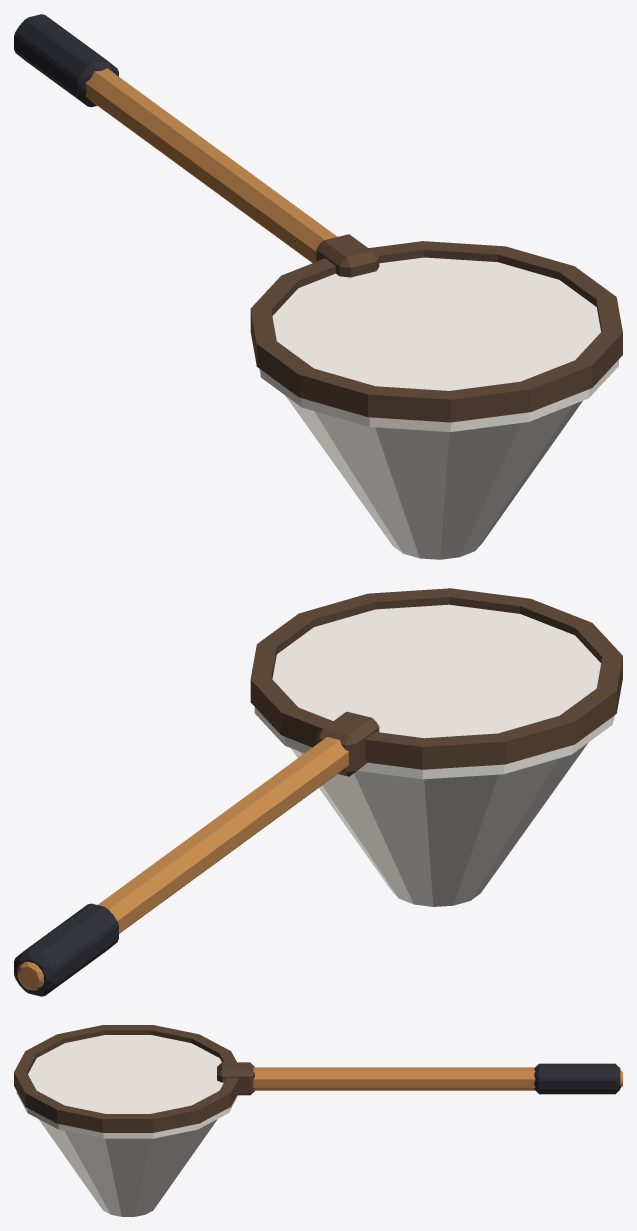
File: CatCafe_Item_Net_L1.glb
3 views of the same model, one above another, from view 1: azimuth 30°, elevation 25°; view 2: azimuth 150°, elevation 25°; view 3: azimuth 270°, elevation 25° (orthographic). The views are drawn at different scales.
Parts seen in each view (by area): view 1: CatCafe_Item_Net_L1_Bag, CatCafe_Item_Net_L1_Handle; view 2: CatCafe_Item_Net_L1_Bag, CatCafe_Item_Net_L1_Handle; view 3: CatCafe_Item_Net_L1_Bag, CatCafe_Item_Net_L1_Handle.
Part boxes in pixels (<box>): CatCafe_Item_Net_L1_Bag: <box>259,257,618,559</box>; CatCafe_Item_Net_L1_Handle: <box>14,14,622,422</box>; CatCafe_Item_Net_L1_Bag: <box>254,604,614,906</box>; CatCafe_Item_Net_L1_Handle: <box>14,588,622,996</box>; CatCafe_Item_Net_L1_Bag: <box>16,1035,238,1216</box>; CatCafe_Item_Net_L1_Handle: <box>14,1025,622,1132</box>.
Size of the model in its own units: 1.75 by 1.22 by 4.8.
1 material, 1 textured.
